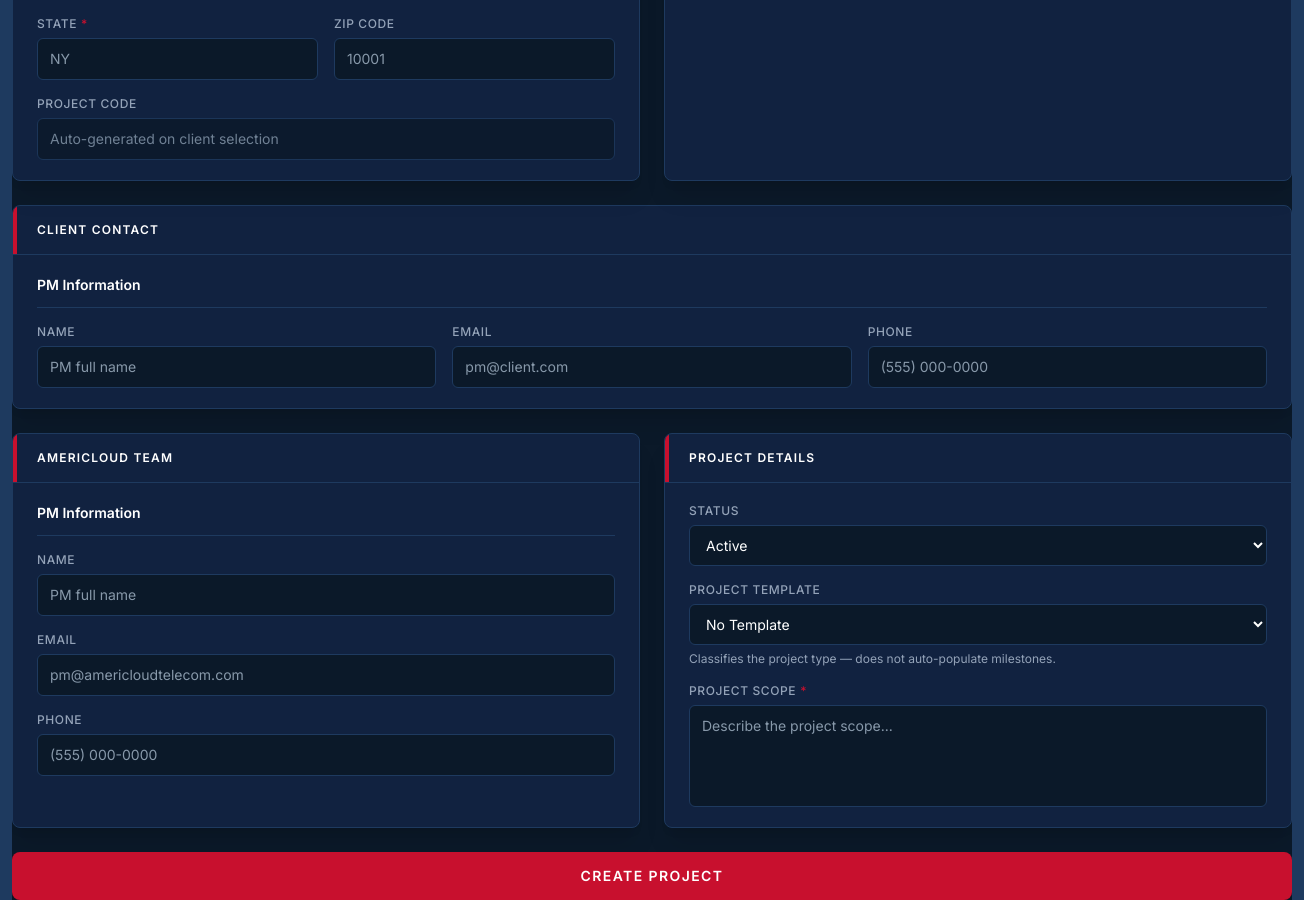
Test case: NewProjectForm › shows validation error when site name is empty on submit
This screenshot has width=1304, height=900.
(page scrolled)
Click the button "Create Project" at [652, 876], box [12,852,1292,899]
(page scrolled)
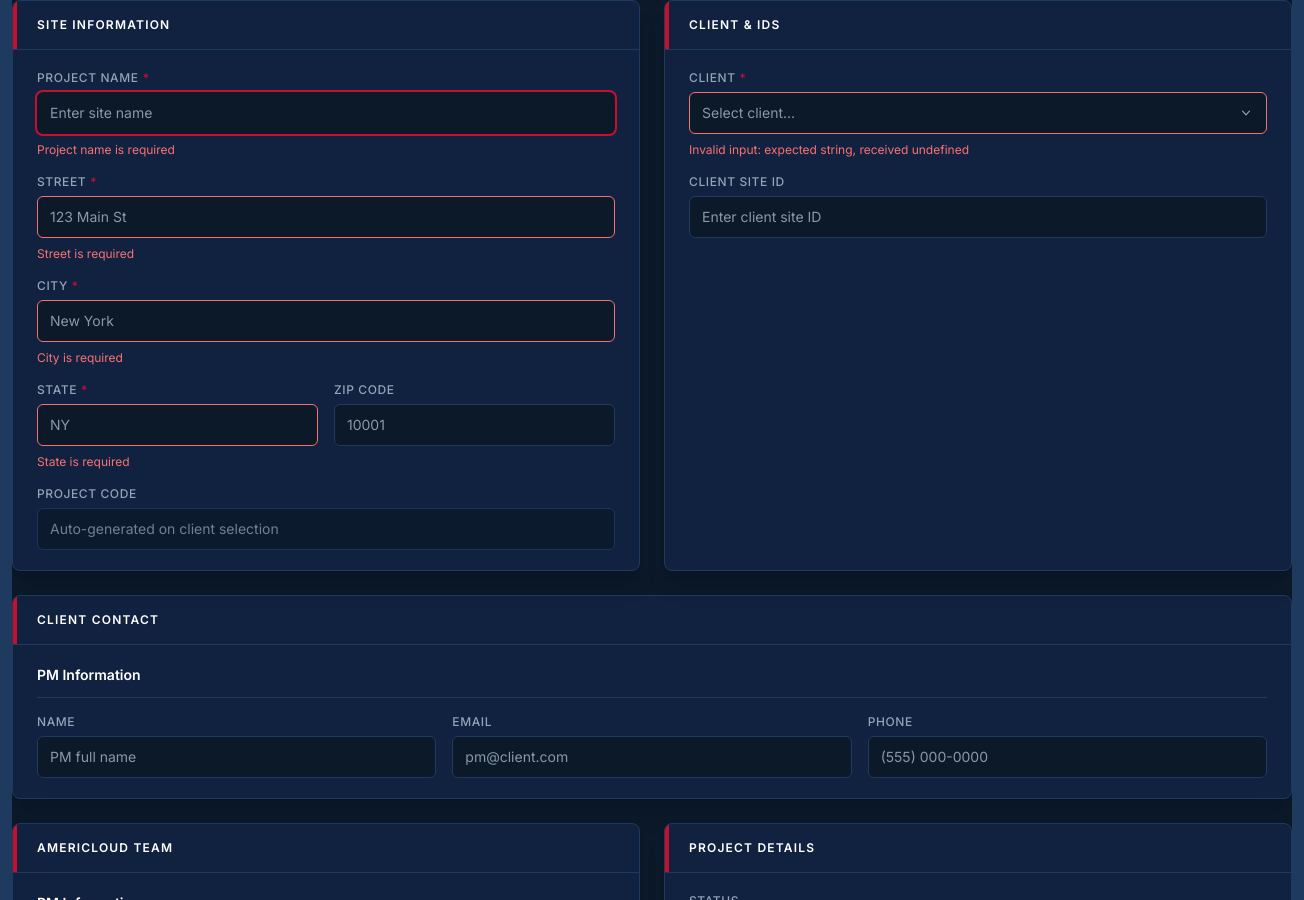
Now the text "Project name is required" is shown, box [37,142,175,157]
